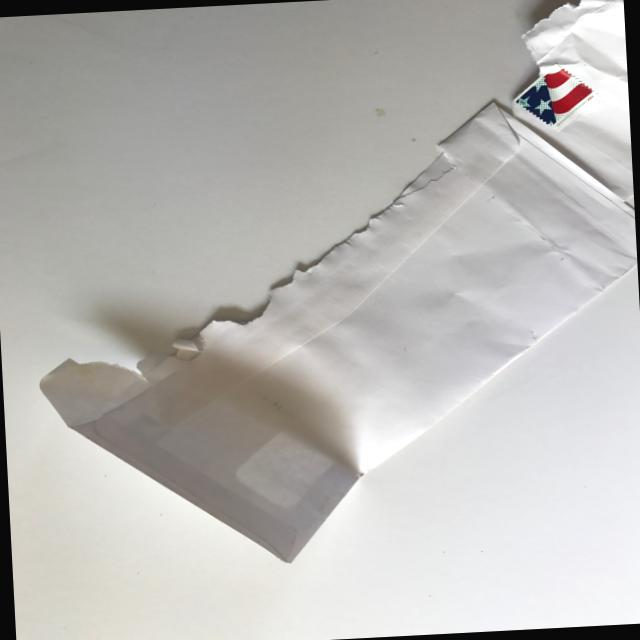Paper: (13, 0, 640, 589)
